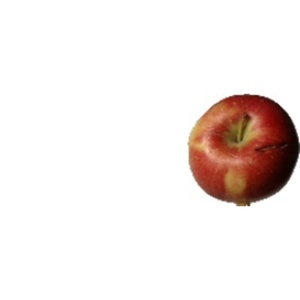maçã braeburn: (185, 89, 299, 205)
